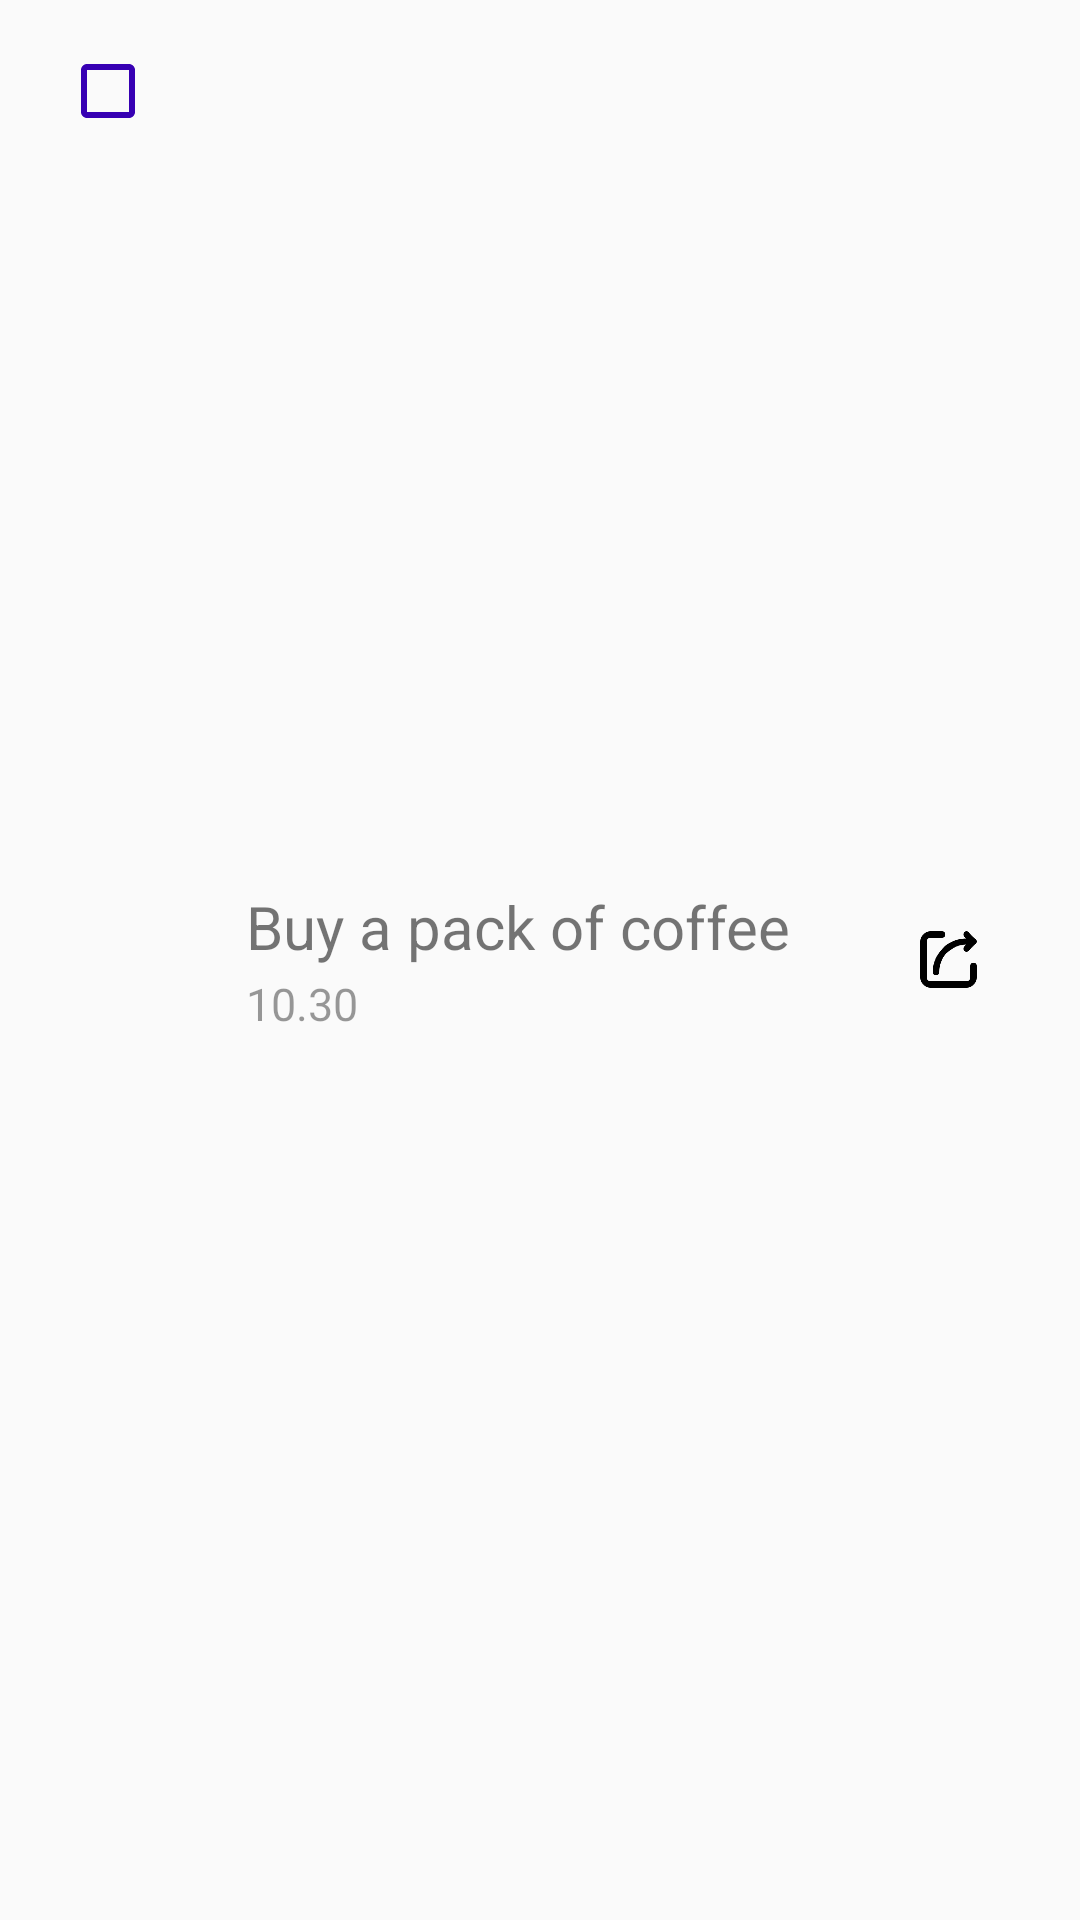

Icons on this 1080x1920 Android screen, each with the point to tap as (x=x, y=y):
share: (x=948, y=959)
